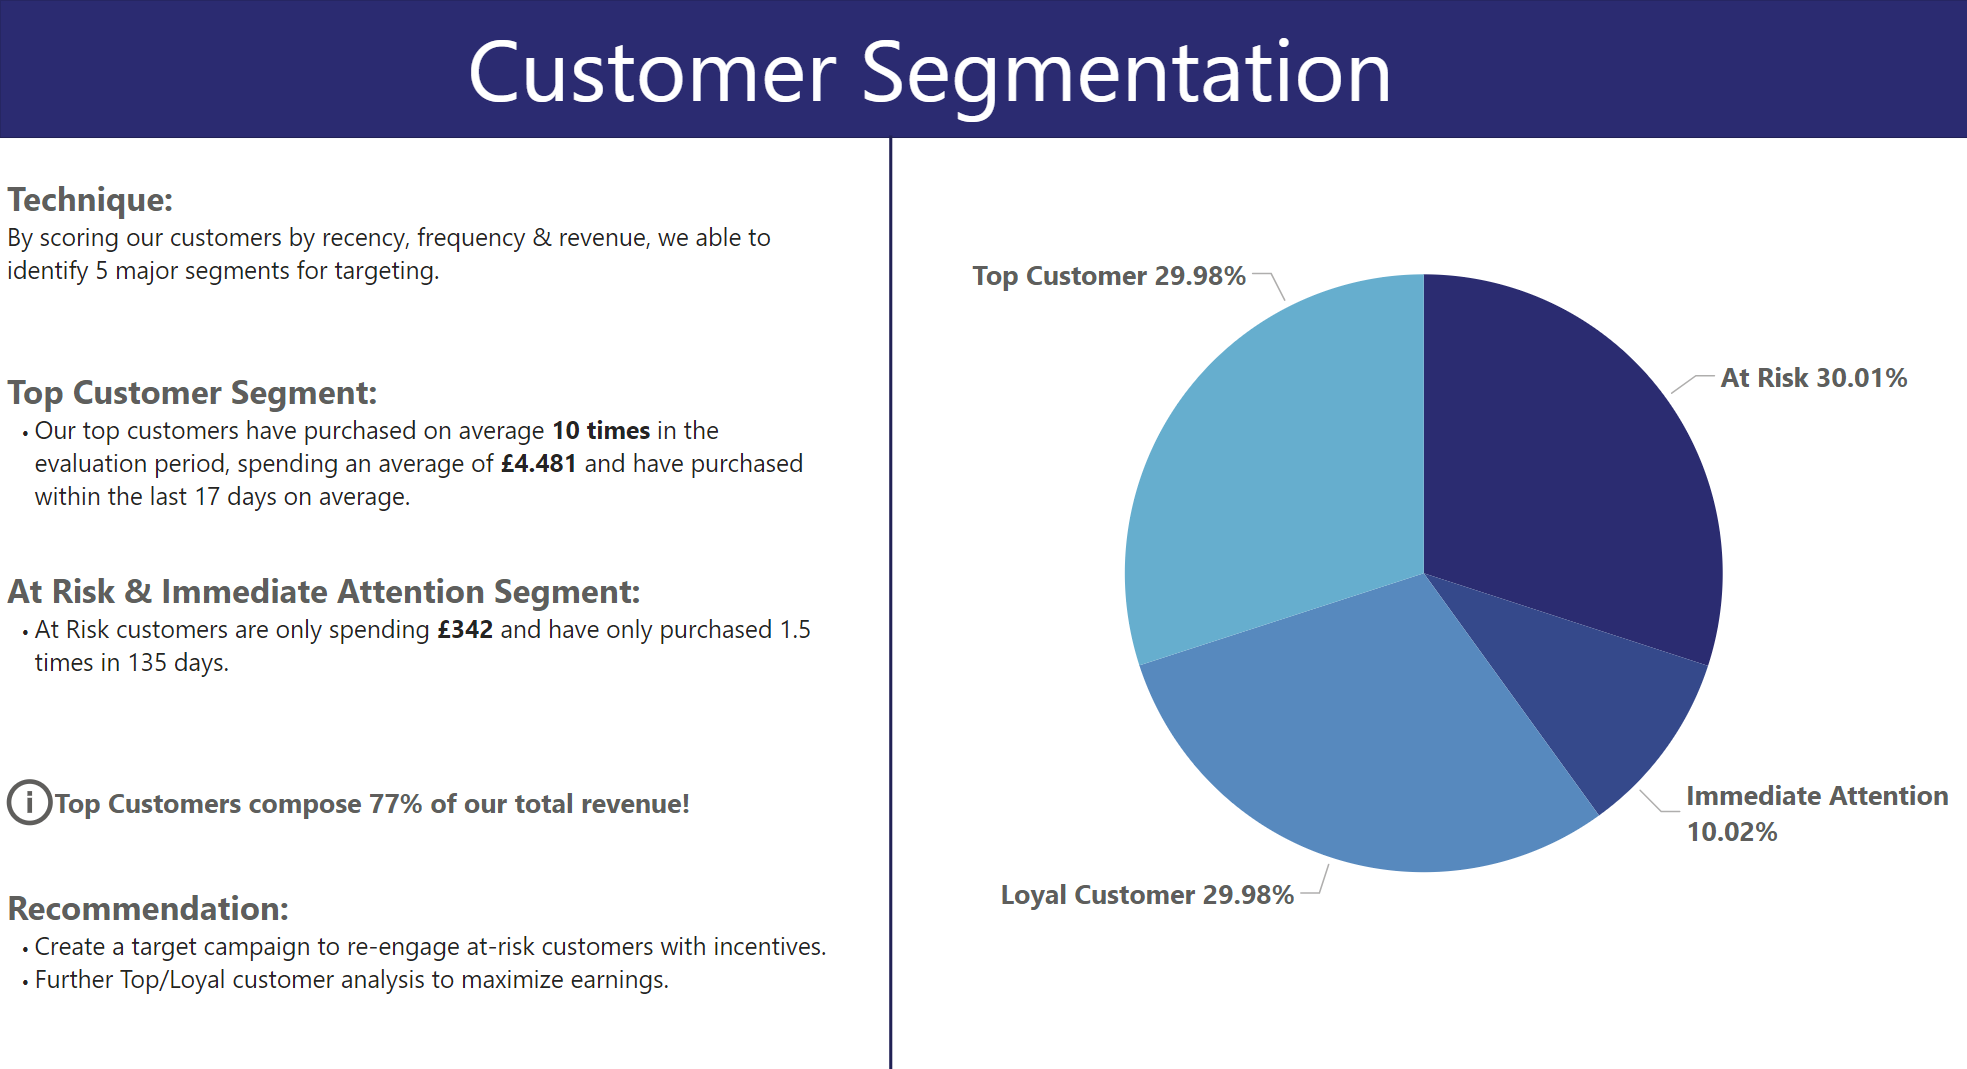

The dashboard page shown, as its layout file describes it:
{"tool":"powerbi","page":{"name":"exec","canvas":[1280,720],"ordinal":0},"visuals":[{"type":"pieChart","fields":{"Category":["rfm_score.CustomerSegment"],"Y":["CountNonNull(rfm_score.CustomerSegment)"]},"box":[577.8,90.3,688.6,562.3],"z":0},{"type":"textbox","box":[0,90.3,544.8,449.7],"z":1},{"type":"textbox","box":[0,549.7,544.8,170],"z":2},{"type":"shape","box":[0,0,1280,90.3],"z":3},{"type":"textbox","box":[298.1,0,614.7,88.4],"z":4},{"type":"shape","box":[427.3,88.4,300.1,631.3],"z":5},{"type":"actionButton","box":[0,500.2,451.6,39.8],"z":6}]}

Visuals, with their boxes on the page's 1280x720 design canvas (x1, y1, x2, y2). These are canvas units, not pixel positions in the 1967x1069 screenshot, which may show the page scaled, cropped or inside an application window:
pieChart - rfm_score.CustomerSegment x CountNonNull(rfm_score.CustomerSegment): rect(578, 90, 1266, 653)
textbox: rect(0, 90, 545, 540)
textbox: rect(0, 550, 545, 720)
shape: rect(0, 0, 1280, 90)
textbox: rect(298, 0, 913, 88)
shape: rect(427, 88, 727, 720)
actionButton: rect(0, 500, 452, 540)
